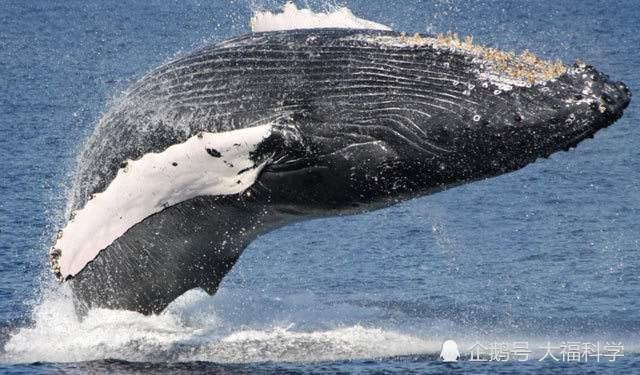fish: (44, 10, 630, 353)
